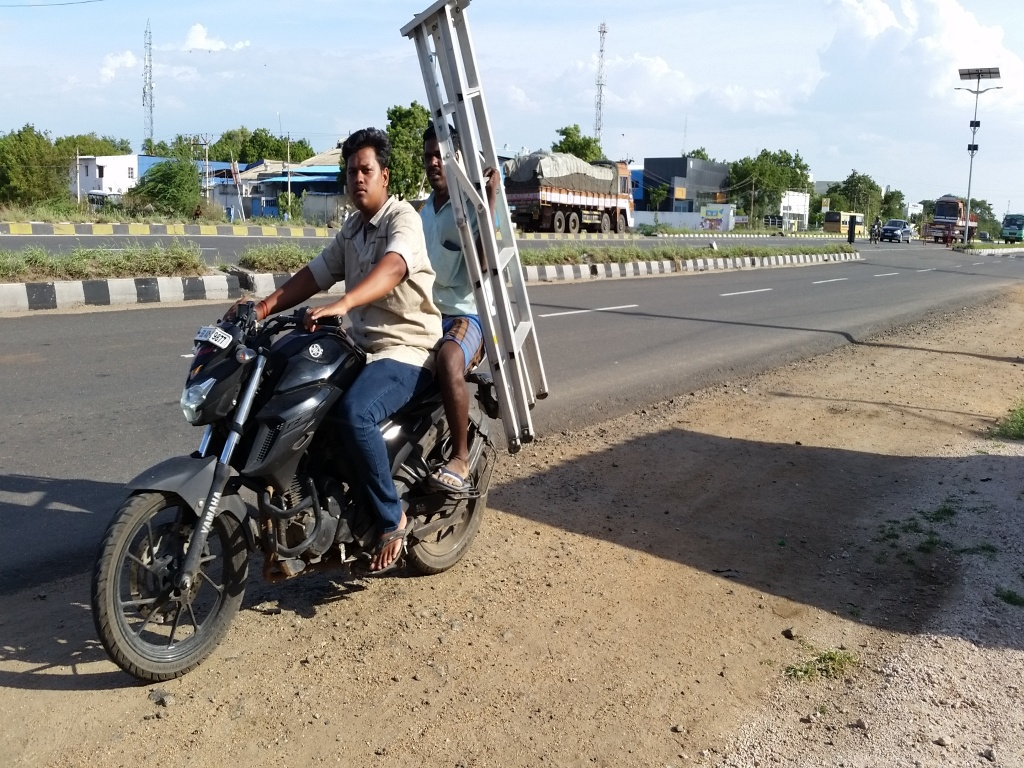biker: (76, 1, 570, 711)
nohelmet: (327, 122, 409, 227), (413, 120, 466, 212)
